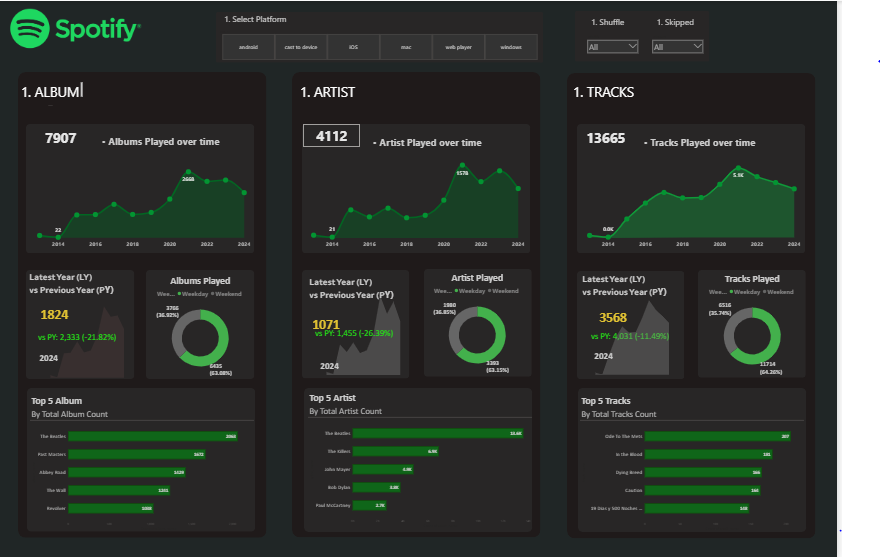

Layout of this report page (visuals, bound fields, positions):
{"tool":"powerbi","page":{"name":"Page 1","canvas":[3300,2200],"ordinal":0},"visuals":[{"type":"shape","box":[70,280,980,1836.7],"z":0},{"type":"image","box":[11.7,11.7,576.7,200],"z":1000},{"type":"shape","box":[103.3,486.7,900,510],"z":2000},{"type":"card","fields":{"Values":["spotify_history.No of Albums"]},"box":[110,493.3,256.7,86.7],"z":3000},{"type":"textbox","box":[69.8,317,260.4,100],"z":4000},{"type":"textbox","box":[366.7,523.3,543.3,103.3],"z":5000},{"type":"areaChart","fields":{"Category":["Date Table.Year"],"Y":["spotify_history.No of Albums"]},"box":[126.7,626.7,866.7,356.7],"z":6000},{"type":"shape","box":[103.3,1060,426.7,430],"z":7000},{"type":"shape","box":[106.7,1526.7,900,566.7],"z":8000},{"type":"areaChart","fields":{"Category":["Date Table.Year"],"Y":["spotify_history.No of Albums"]},"box":[156.7,1153.3,346.7,336.7],"z":9000},{"type":"textbox","box":[110,1060,386.7,136.7],"z":10000},{"type":"card","fields":{"Values":["spotify_history.CourrentYearAlbums"]},"box":[103.3,1186.7,223.3,86.7],"z":11000},{"type":"card","fields":{"Values":["spotify_history.PY and YOY Albums KPI"]},"box":[110,1276.7,386.7,90],"z":12000},{"type":"card","fields":{"Values":["spotify_history.Max Year"]},"box":[107.1,1364.3,171.4,85.7],"z":13000},{"type":"shape","box":[576.7,1060,426.7,430],"z":14000},{"type":"donutChart","title":"Albums Played","fields":{"Category":["Date Table.Weekday_Weekend"],"Y":["spotify_history.No of Albums"]},"box":[580,1080,420,410],"z":15000},{"type":"barChart","title":"Top 5 Album","fields":{"Category":["spotify_history.album_name"],"Y":["CountNonNull(spotify_history.album_name)"]},"box":[120,1553.3,883.3,540],"z":16000},{"type":"shape","box":[1150,280,980,1835],"z":17000},{"type":"shape","box":[2235,285,980,1835],"z":18000},{"type":"shape","box":[1190,485,900,510],"z":19000},{"type":"areaChart","fields":{"Category":["Date Table.Year"],"Y":["spotify_history.No Of Artist"]},"box":[1206.7,623.3,866.7,360],"z":20000},{"type":"card","fields":{"Values":["spotify_history.No Of Artist"]},"box":[1193.3,486.7,226.7,90],"z":21000},{"type":"textbox","box":[1436.7,530,556.7,103.3],"z":22000},{"type":"textbox","box":[1148.4,316.1,287.1,100],"z":23000},{"type":"shape","box":[1192.5,1062.5,422.5,427.5],"z":24000},{"type":"shape","box":[1670,1055,425,425],"z":25000},{"type":"donutChart","title":"Artist Played","fields":{"Category":["Date Table.Weekday_Weekend"],"Y":["spotify_history.No Of Artist"]},"box":[1670,1067.5,420,410],"z":26000},{"type":"areaChart","fields":{"Category":["Date Table.Year"],"Y":["spotify_history.No Of Artist"]},"box":[1247.5,1142.5,347.5,337.5],"z":27000},{"type":"card","fields":{"Values":["spotify_history.LatestYearArtist"]},"box":[1173.3,1226.7,220,85],"z":28000},{"type":"card","fields":{"Values":["spotify_history.Max Year"]},"box":[1212.5,1390,170,87.5],"z":29000},{"type":"card","fields":{"Values":["spotify_history.PY and YOY Artist KPI"]},"box":[1212.5,1267.5,362.5,87.5],"z":30000},{"type":"shape","box":[1200,1527.5,900,567.5],"z":31000},{"type":"barChart","title":"Top 5 Artist","fields":{"Category":["spotify_history.artist_name"],"Y":["CountNonNull(spotify_history.artist_name)"]},"box":[1215,1540,882.5,540],"z":32000},{"type":"textbox","box":[1213.3,1080,381.7,120],"z":33000},{"type":"textbox","box":[2236.7,316.7,286.7,100],"z":34000},{"type":"shape","box":[2276.7,486.7,900,510],"z":35000},{"type":"card","fields":{"Values":["spotify_history.No Of Tracks"]},"box":[2276.7,493.3,226.7,90],"z":36000},{"type":"textbox","box":[2503.3,530,556.7,103.3],"z":37000},{"type":"areaChart","fields":{"Category":["Date Table.Year"],"Y":["spotify_history.No Of Tracks"]},"box":[2293.3,623.3,866.7,360],"z":38000},{"type":"shape","box":[2276.7,1063.3,423.3,426.7],"z":39000},{"type":"textbox","box":[2292.5,1067.5,382.5,137.5],"z":40000},{"type":"card","fields":{"Values":["spotify_history.LatestYeartracks"]},"box":[2305,1200,220,87.5],"z":41000},{"type":"card","fields":{"Values":["spotify_history.PY and YOY Tracks KPI"]},"box":[2302.5,1277.5,362.5,87.5],"z":42000},{"type":"areaChart","fields":{"Category":["Date Table.Year"],"Y":["spotify_history.No Of Tracks"]},"box":[2305,1141.7,346.7,336.7],"z":43000},{"type":"card","fields":{"Values":["spotify_history.Max Year"]},"box":[2295,1352.5,170,87.5],"z":44000},{"type":"shape","box":[2752.5,1060,425,425],"z":45000},{"type":"donutChart","title":"Tracks Played","fields":{"Category":["Date Table.Weekday_Weekend"],"Y":["spotify_history.No Of Tracks"]},"box":[2755,1072.5,420,410],"z":46000},{"type":"shape","box":[2277.5,1527.5,900,567.5],"z":47000},{"type":"barChart","title":"Top 5 Tracks","fields":{"Category":["spotify_history.track_name"],"Y":["CountNonNull(spotify_history.track_name)"]},"box":[2285,1552.5,882.5,540],"z":48000},{"type":"shape","box":[852.8,43.4,1290.6,200],"z":49000},{"type":"slicer","fields":{"Values":["spotify_history.platform"]},"box":[852.8,111.3,1290.6,128.3],"z":50000},{"type":"textbox","box":[862.3,43.4,286.8,67.9],"z":51000},{"type":"shape","box":[2267.9,39.6,530.2,200],"z":52000},{"type":"slicer","fields":{"Values":["spotify_history.shuffle"]},"box":[2307.5,124.5,218.9,118.9],"z":53000},{"type":"slicer","fields":{"Values":["spotify_history.skipped"]},"box":[2562.3,124.5,218.9,115.1],"z":54000},{"type":"textbox","box":[2284.9,56.6,218.9,67.9],"z":55000},{"type":"textbox","box":[2534,56.6,254.7,67.9],"z":56000}]}

Visuals, with their boxes on the page's 3300x2200 design canvas (x1, y1, x2, y2). These are canvas units, not pixel positions in the 880x557 screenshot, which may show the page scaled, cropped or inside an application window:
shape: (70,280,1050,2117)
image: (12,12,588,212)
shape: (103,487,1003,997)
card - spotify_history.No of Albums: (110,493,367,580)
textbox: (70,317,330,417)
textbox: (367,523,910,627)
areaChart - Date Table.Year x spotify_history.No of Albums: (127,627,993,983)
shape: (103,1060,530,1490)
shape: (107,1527,1007,2093)
areaChart - Date Table.Year x spotify_history.No of Albums: (157,1153,503,1490)
textbox: (110,1060,497,1197)
card - spotify_history.CourrentYearAlbums: (103,1187,327,1273)
card - spotify_history.PY and YOY Albums KPI: (110,1277,497,1367)
card - spotify_history.Max Year: (107,1364,278,1450)
shape: (577,1060,1003,1490)
"Albums Played" donutChart: (580,1080,1000,1490)
"Top 5 Album" barChart: (120,1553,1003,2093)
shape: (1150,280,2130,2115)
shape: (2235,285,3215,2120)
shape: (1190,485,2090,995)
areaChart - Date Table.Year x spotify_history.No Of Artist: (1207,623,2073,983)
card - spotify_history.No Of Artist: (1193,487,1420,577)
textbox: (1437,530,1993,633)
textbox: (1148,316,1436,416)
shape: (1192,1062,1615,1490)
shape: (1670,1055,2095,1480)
"Artist Played" donutChart: (1670,1068,2090,1478)
areaChart - Date Table.Year x spotify_history.No Of Artist: (1248,1142,1595,1480)
card - spotify_history.LatestYearArtist: (1173,1227,1393,1312)
card - spotify_history.Max Year: (1212,1390,1382,1478)
card - spotify_history.PY and YOY Artist KPI: (1212,1268,1575,1355)
shape: (1200,1528,2100,2095)
"Top 5 Artist" barChart: (1215,1540,2098,2080)
textbox: (1213,1080,1595,1200)
textbox: (2237,317,2523,417)
shape: (2277,487,3177,997)
card - spotify_history.No Of Tracks: (2277,493,2503,583)
textbox: (2503,530,3060,633)
areaChart - Date Table.Year x spotify_history.No Of Tracks: (2293,623,3160,983)
shape: (2277,1063,2700,1490)
textbox: (2292,1068,2675,1205)
card - spotify_history.LatestYeartracks: (2305,1200,2525,1288)
card - spotify_history.PY and YOY Tracks KPI: (2302,1278,2665,1365)
areaChart - Date Table.Year x spotify_history.No Of Tracks: (2305,1142,2652,1478)
card - spotify_history.Max Year: (2295,1352,2465,1440)
shape: (2752,1060,3178,1485)
"Tracks Played" donutChart: (2755,1072,3175,1482)
shape: (2278,1528,3178,2095)
"Top 5 Tracks" barChart: (2285,1552,3168,2092)
shape: (853,43,2143,243)
slicer - spotify_history.platform: (853,111,2143,240)
textbox: (862,43,1149,111)
shape: (2268,40,2798,240)
slicer - spotify_history.shuffle: (2308,124,2526,243)
slicer - spotify_history.skipped: (2562,124,2781,240)
textbox: (2285,57,2504,124)
textbox: (2534,57,2789,124)
